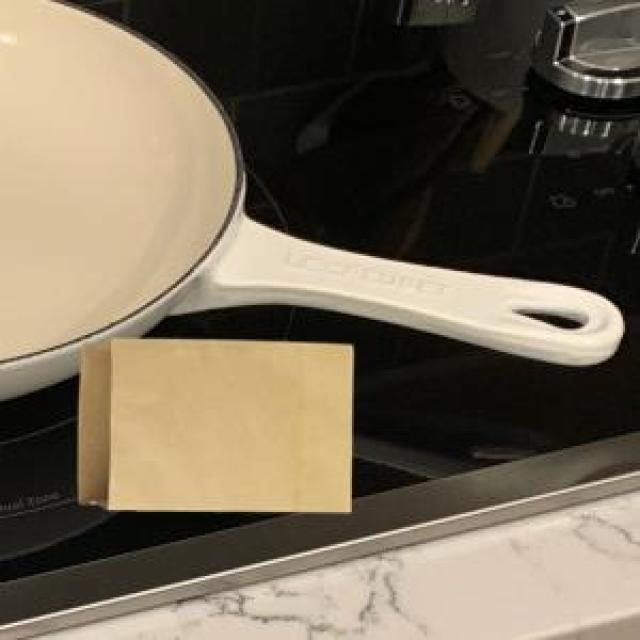paper: (75, 335, 348, 508)
